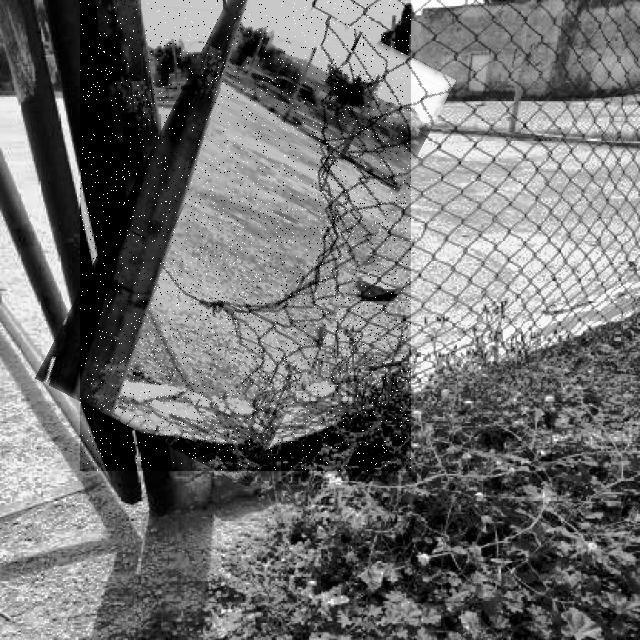anomaly-fence: (80, 0, 411, 471)
